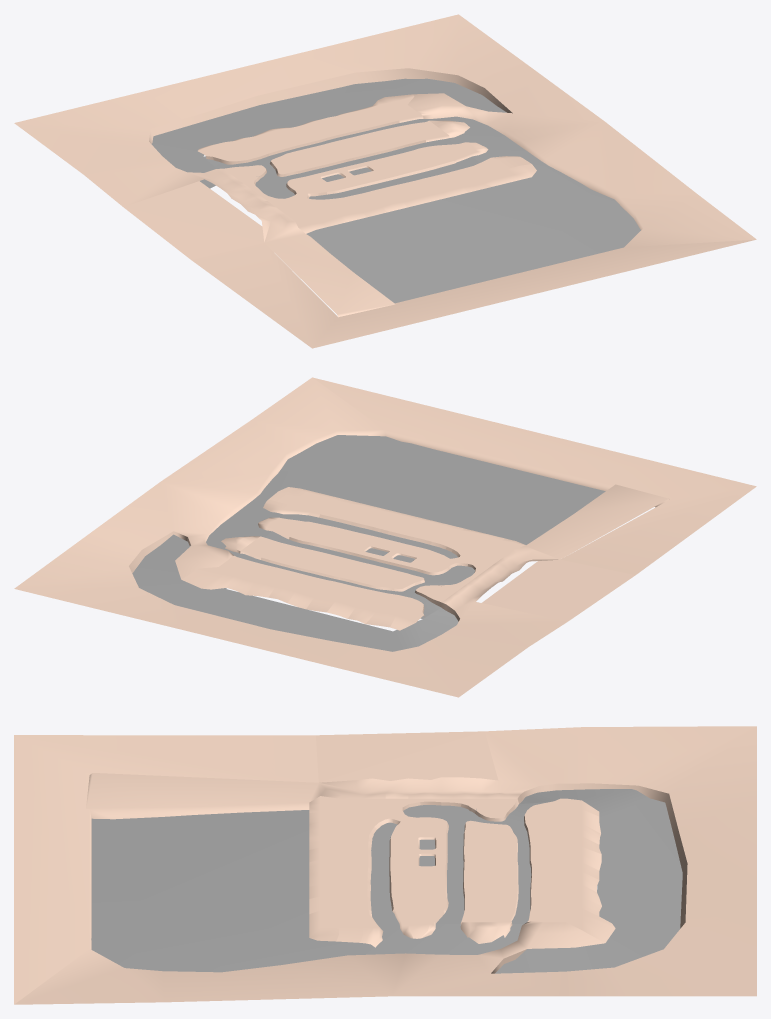
Rendered from SM_Playground_group 1.fbx.
The picture shows the model from 3 angles, top to bottom: view 1: azimuth 30°, elevation 25°; view 2: azimuth 150°, elevation 25°; view 3: azimuth 270°, elevation 25°; orthographic projection. The views are drawn at different scales.
Parts seen in each view (by area): view 1: SM_Background, SM_Background_river, river; view 2: SM_Background, SM_Background_river, river; view 3: SM_Background, SM_Background_river, river.
Part boxes in pixels (x1=…): SM_Background: x1=14, y1=14, x2=756, y2=348; SM_Background_river: x1=151, y1=78, x2=640, y2=303; river: x1=203, y1=119, x2=480, y2=199; SM_Background: x1=14, y1=377, x2=756, y2=697; SM_Background_river: x1=132, y1=435, x2=605, y2=651; river: x1=238, y1=514, x2=474, y2=618; SM_Background: x1=14, y1=726, x2=756, y2=1004; SM_Background_river: x1=91, y1=789, x2=682, y2=973; river: x1=370, y1=802, x2=549, y2=923.
Size of the model in its own units: 230 by 11.98 by 267.
